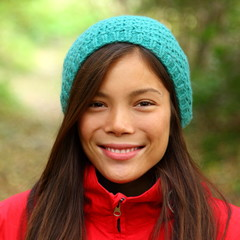teen: (64, 36, 180, 181)
